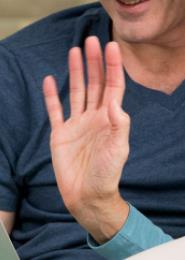down: (41, 36, 129, 219)
